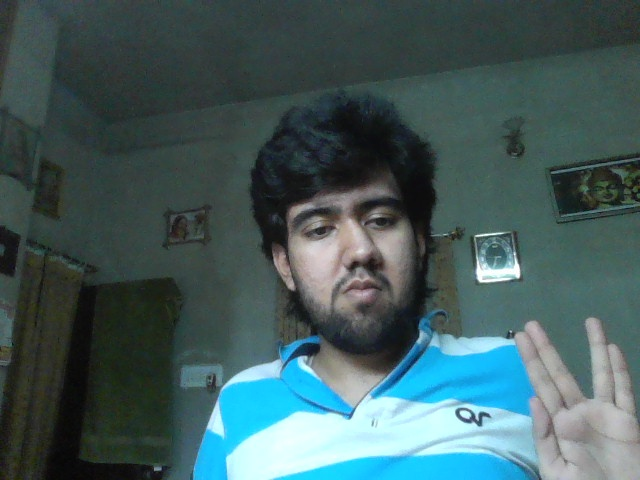LiveLong: (515, 316, 640, 480)
